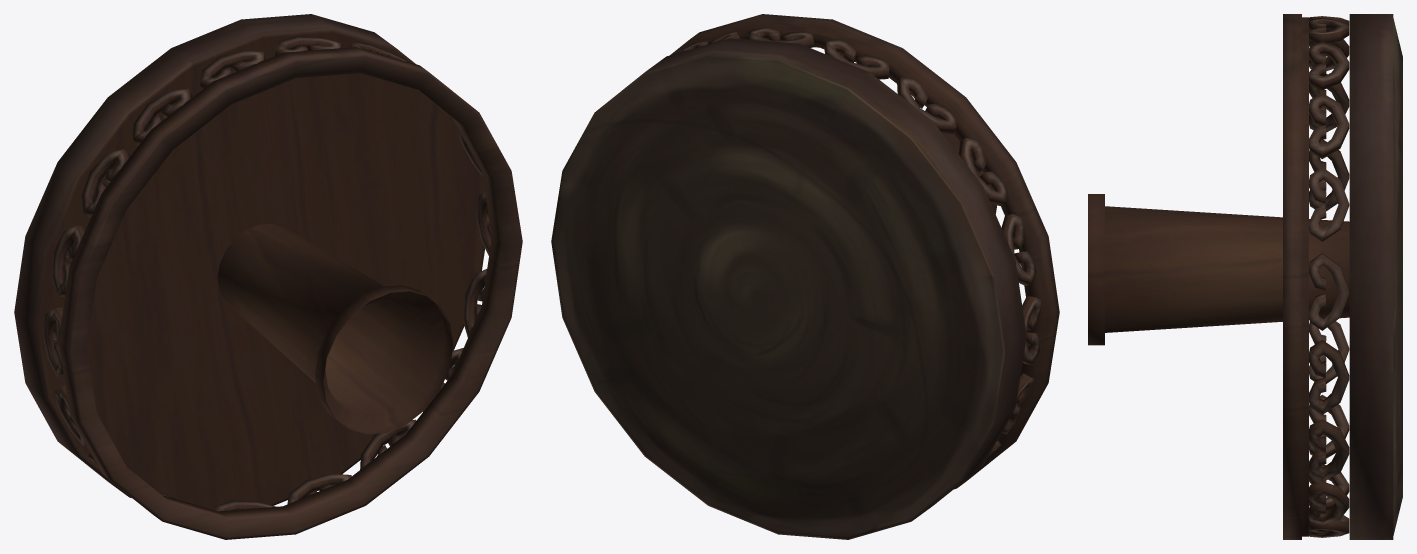
Rendered from Mesa Redonda Fin.FBX.
3 views of the same model, side by side, from view 1: azimuth 30°, elevation 25°; view 2: azimuth 150°, elevation 25°; view 3: azimuth 270°, elevation 25° (orthographic).
Parts seen in each view (by area): view 1: MesaRedonda; view 2: MesaRedonda; view 3: MesaRedonda.
Boxes of the visible parts, bbox=[...] form: MesaRedonda: bbox=[14, 14, 522, 539]; MesaRedonda: bbox=[551, 14, 1059, 539]; MesaRedonda: bbox=[1088, 14, 1402, 539].
Bounding box in the file's own units: 115 × 115 × 68.12.
Materials: 1 (1 with a texture image).
